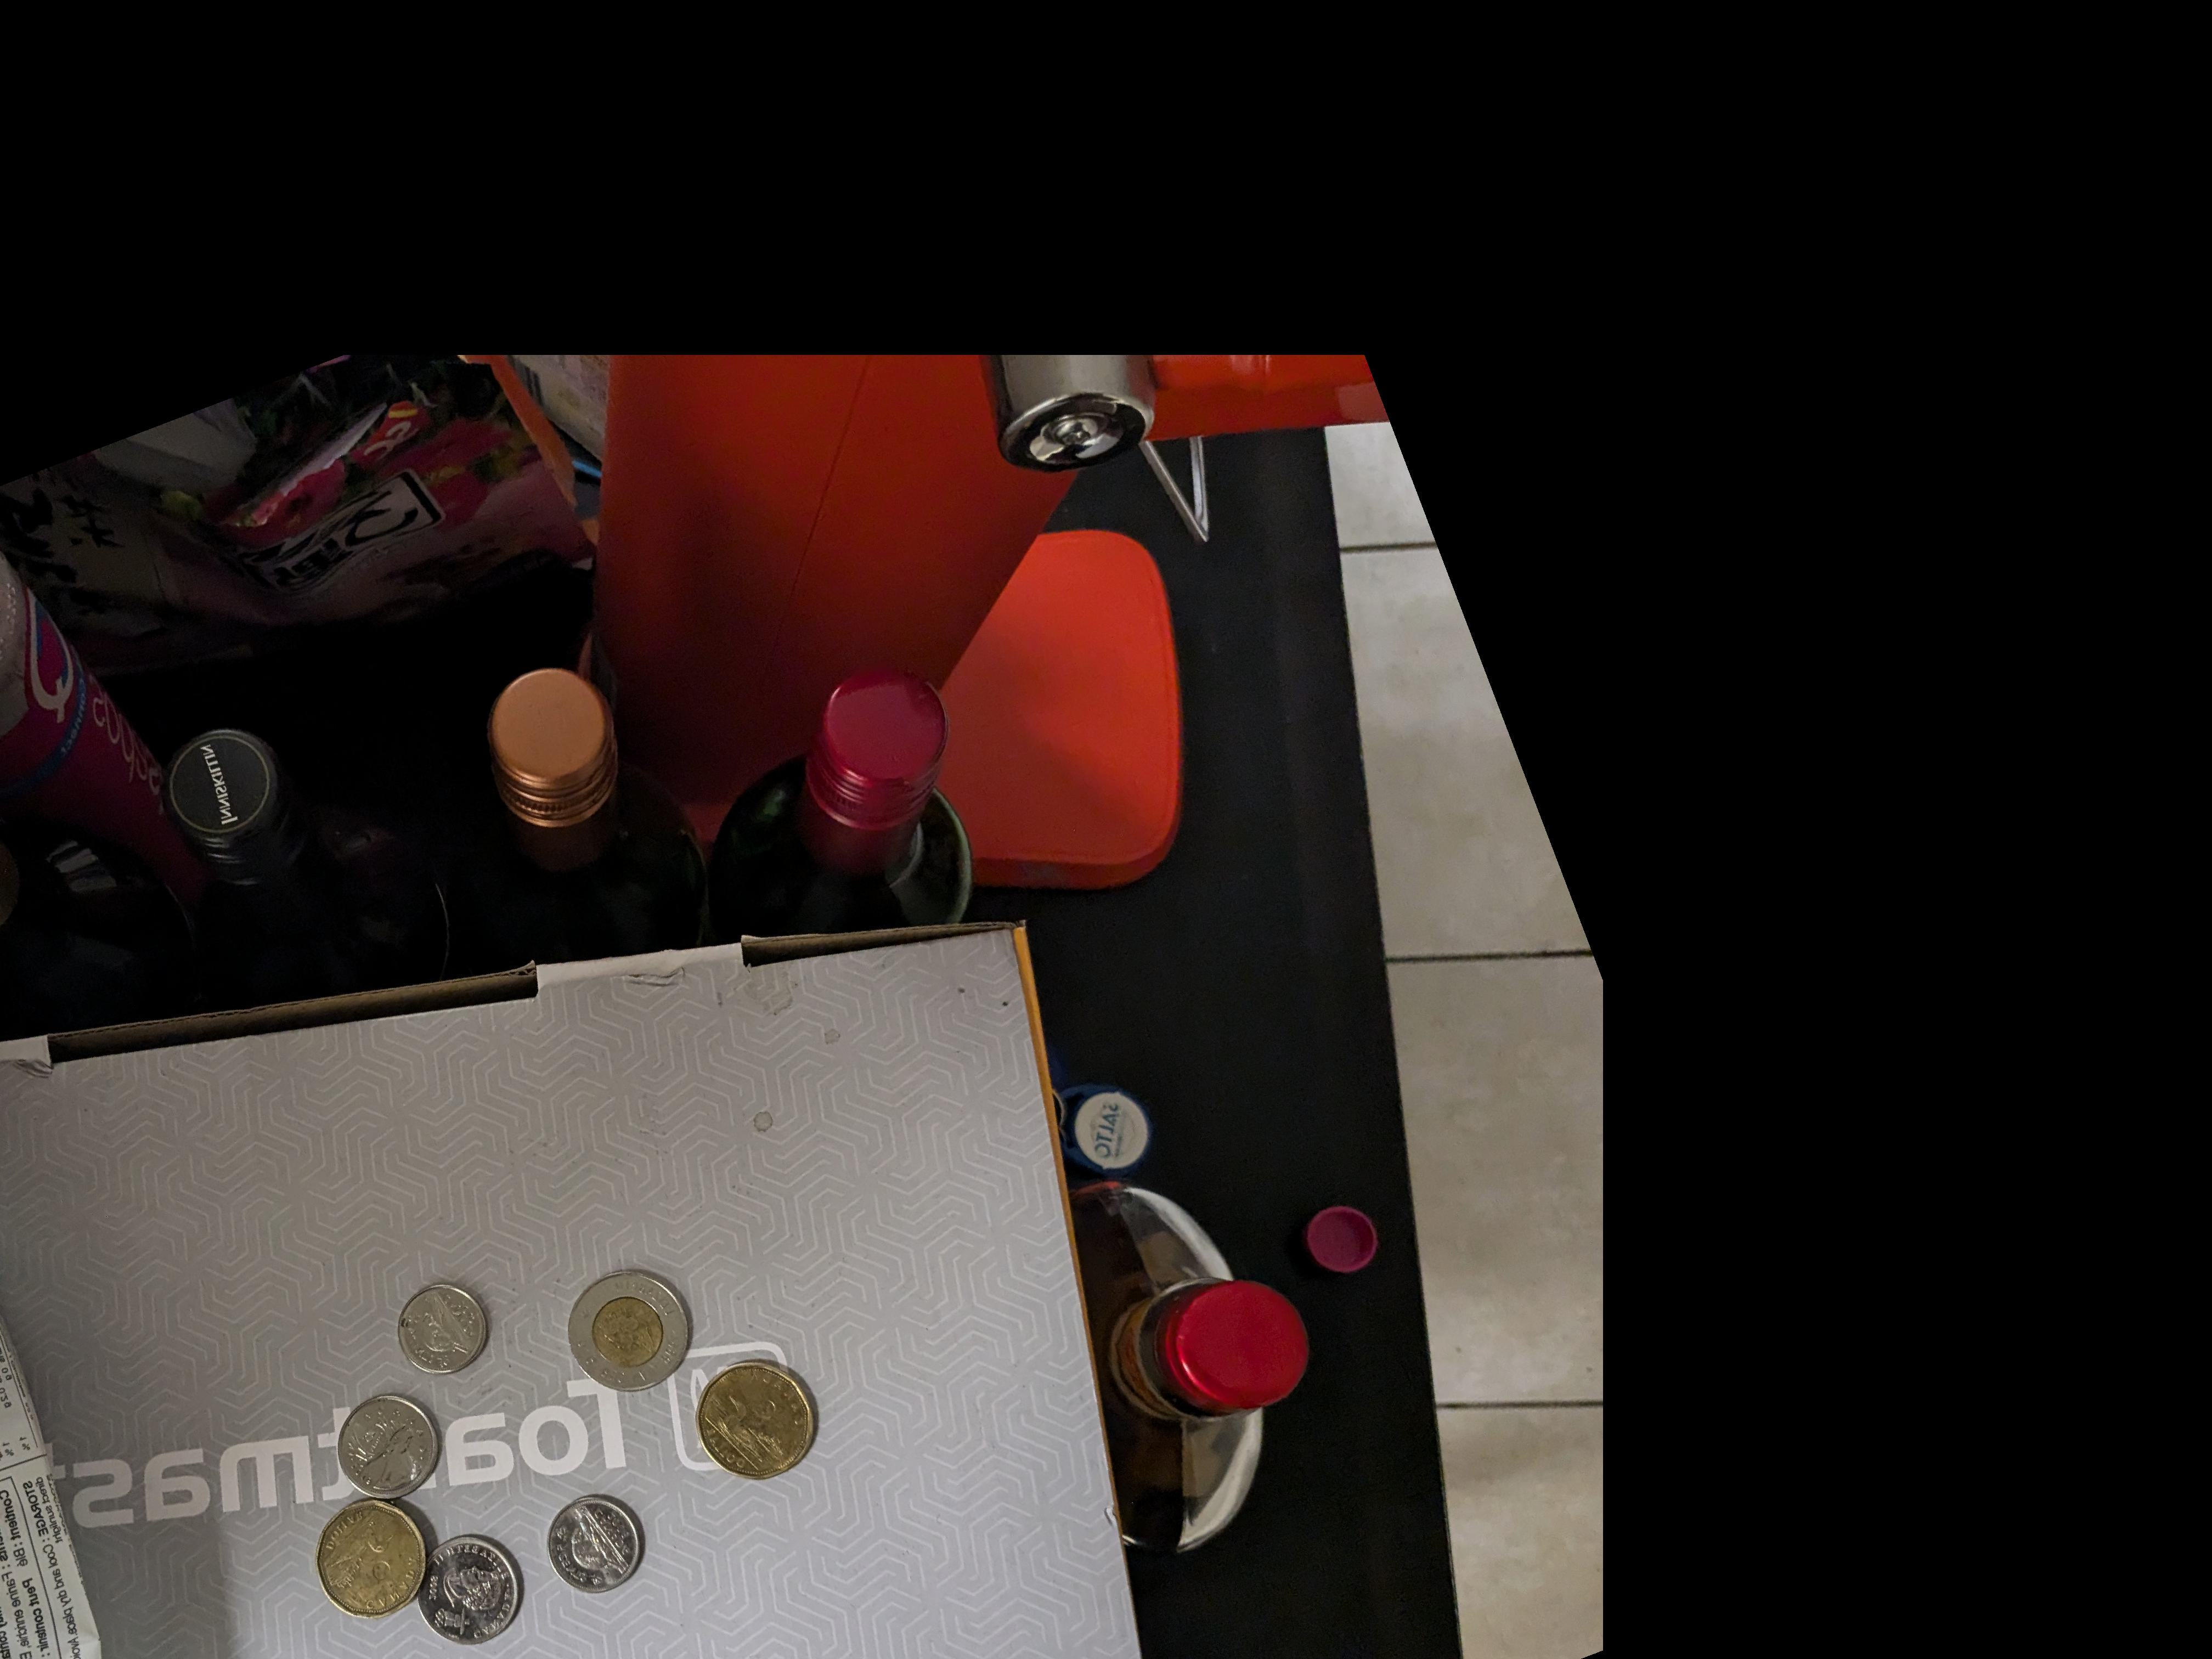loonie: (693, 1361, 822, 1480), (312, 1502, 432, 1624)
nickel: (547, 1493, 653, 1596), (397, 1284, 491, 1378)
quarter: (416, 1535, 524, 1650), (334, 1392, 439, 1495)
toonie: (571, 1269, 697, 1401)
